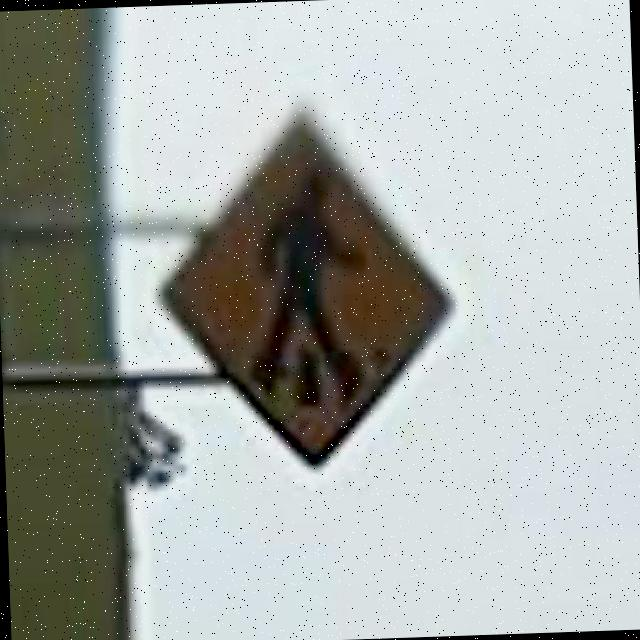Przejscie dla pieszych: (184, 130, 438, 453)
